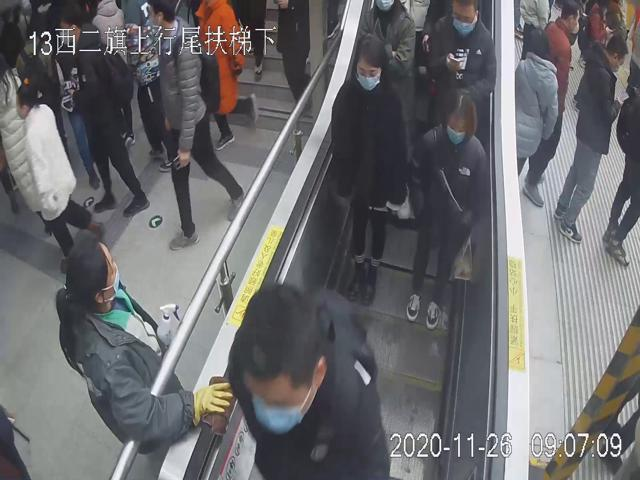person: (53, 237, 233, 455), (329, 32, 407, 308), (404, 89, 490, 330), (56, 8, 151, 219), (14, 80, 105, 274), (553, 18, 627, 245), (424, 0, 496, 134)
